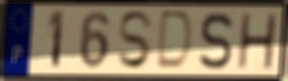1: (47, 8, 66, 72)
6: (78, 10, 112, 71)
D: (154, 9, 195, 73)
H: (235, 11, 278, 72)
S: (116, 10, 156, 72), (197, 11, 235, 72)
